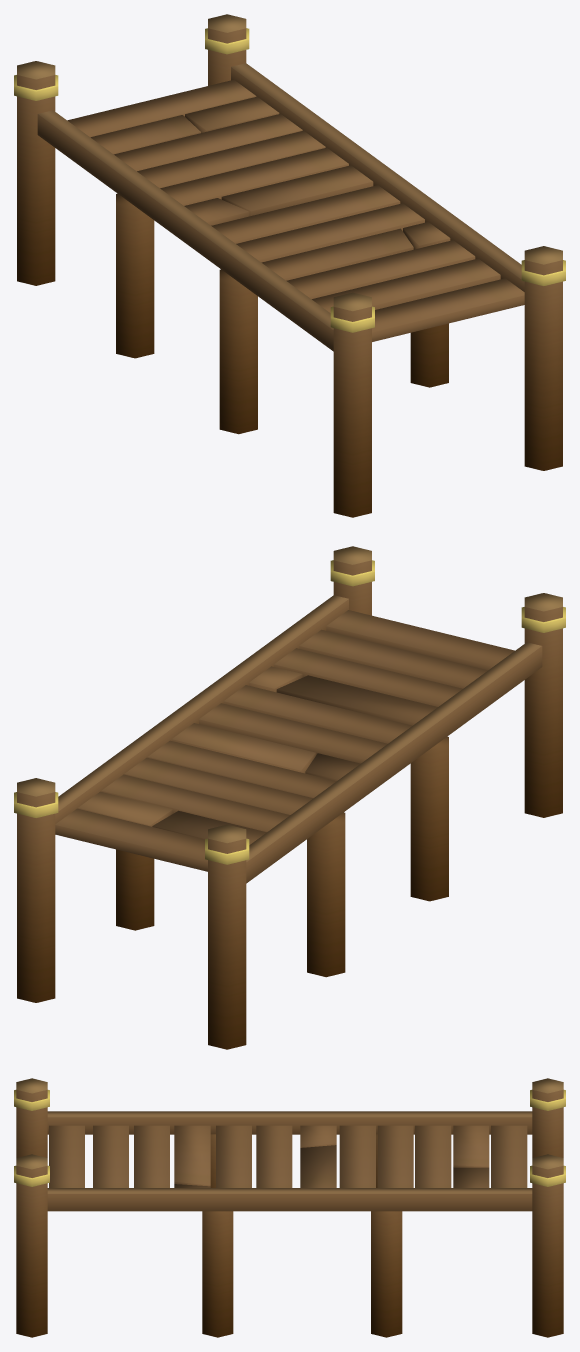
File: Bridge 01.FBX
3 renders of one model, top to bottom at view 1: azimuth 30°, elevation 25°; view 2: azimuth 150°, elevation 25°; view 3: azimuth 270°, elevation 25°, orthographic. The views are drawn at different scales.
Visible parts, largest first — view 1: Bridge 01; view 2: Bridge 01; view 3: Bridge 01.
Boxes of the visible parts, bbox=[...] form: Bridge 01: bbox=[14, 14, 565, 517]; Bridge 01: bbox=[14, 546, 565, 1049]; Bridge 01: bbox=[14, 1078, 565, 1337].
Size of the model in its own units: 278 by 233 by 693.
1 material, 1 textured.
